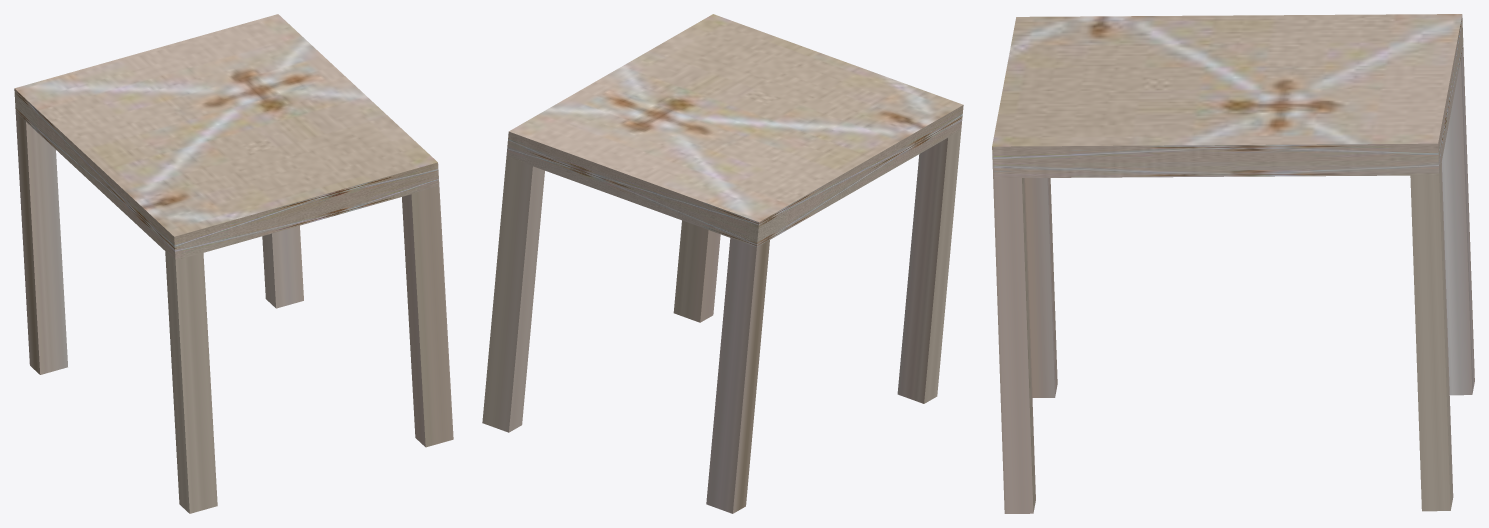
File: table.gltf
3 renders of one model, left to right at view 1: azimuth 30°, elevation 25°; view 2: azimuth 150°, elevation 25°; view 3: azimuth 270°, elevation 25°, orthographic. The views are drawn at different scales.
Parts seen in each view (by area): view 1: table; view 2: table; view 3: table.
Boxes of the visible parts, bbox=[...] form: table: bbox=[14, 14, 453, 513]; table: bbox=[482, 14, 963, 513]; table: bbox=[992, 14, 1474, 513].
Bounding box in the file's own units: 2.81 × 2.89 × 3.21.
1 material, 1 textured.
